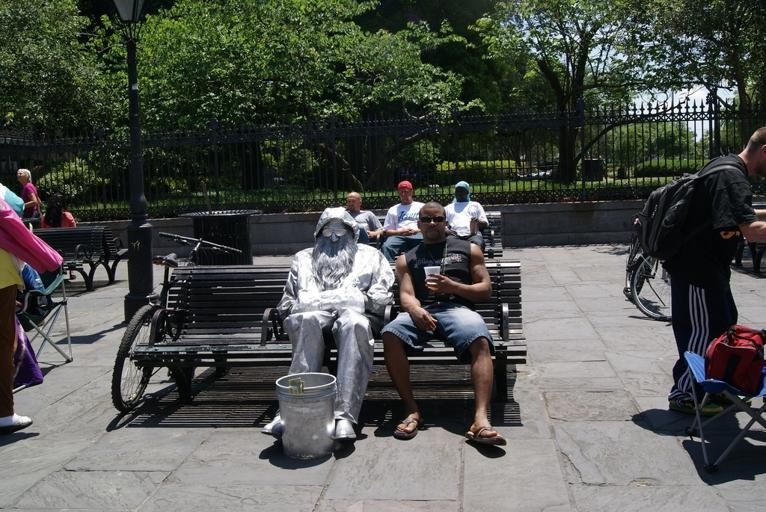non-vehicle: (111, 232, 242, 415), (622, 210, 672, 322)
